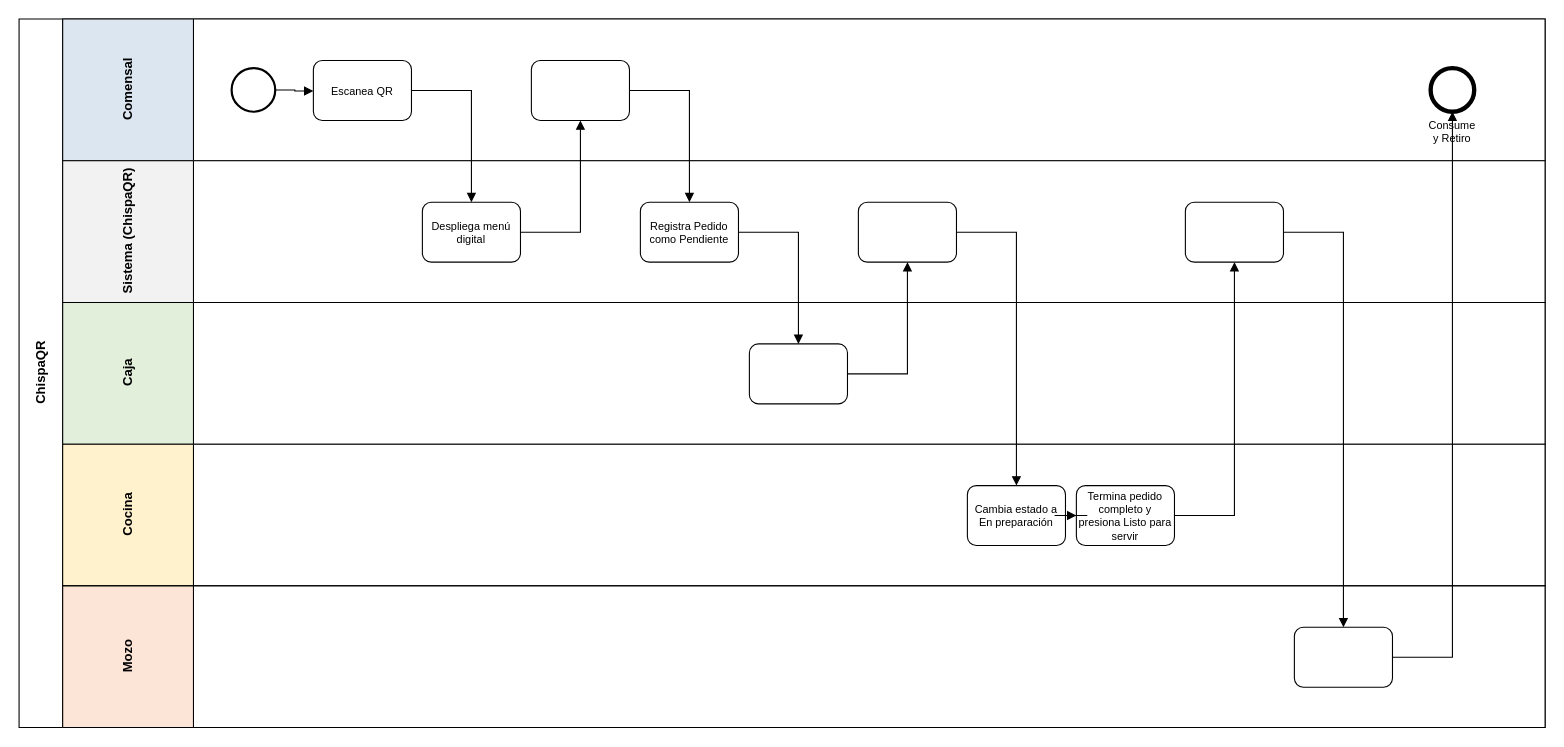
This 1564x747 diagram has some shape labels left out. The centre of each missing label's shape, as x and y in pixels:
Envía alerta al Mozo: the point at 1233,231
Llegada: the point at 253,89
Proyecta orden en Cocina: the point at 906,231
Recibe dinero y marca como Pagado: the point at 797,373
Recoge pedido completo y lleva a mesa: the point at 1342,656
Selecciona platos y envía pedido: the point at 579,89
